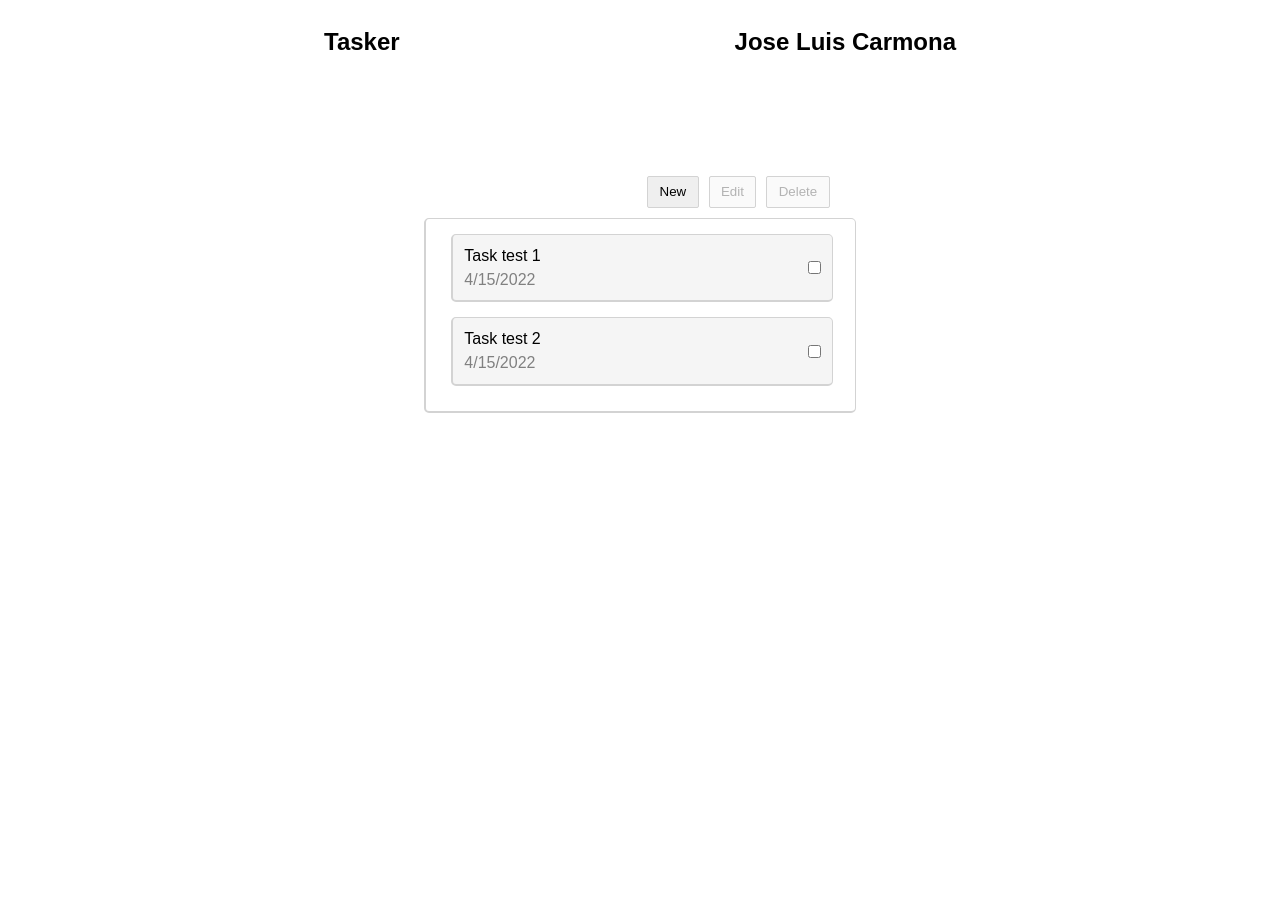
Test case: App component › When button 'New' is clicked a task detail modal window is showed and the field name is empty
Click the button "New".
click(673, 192)  # box [647, 176, 699, 208]
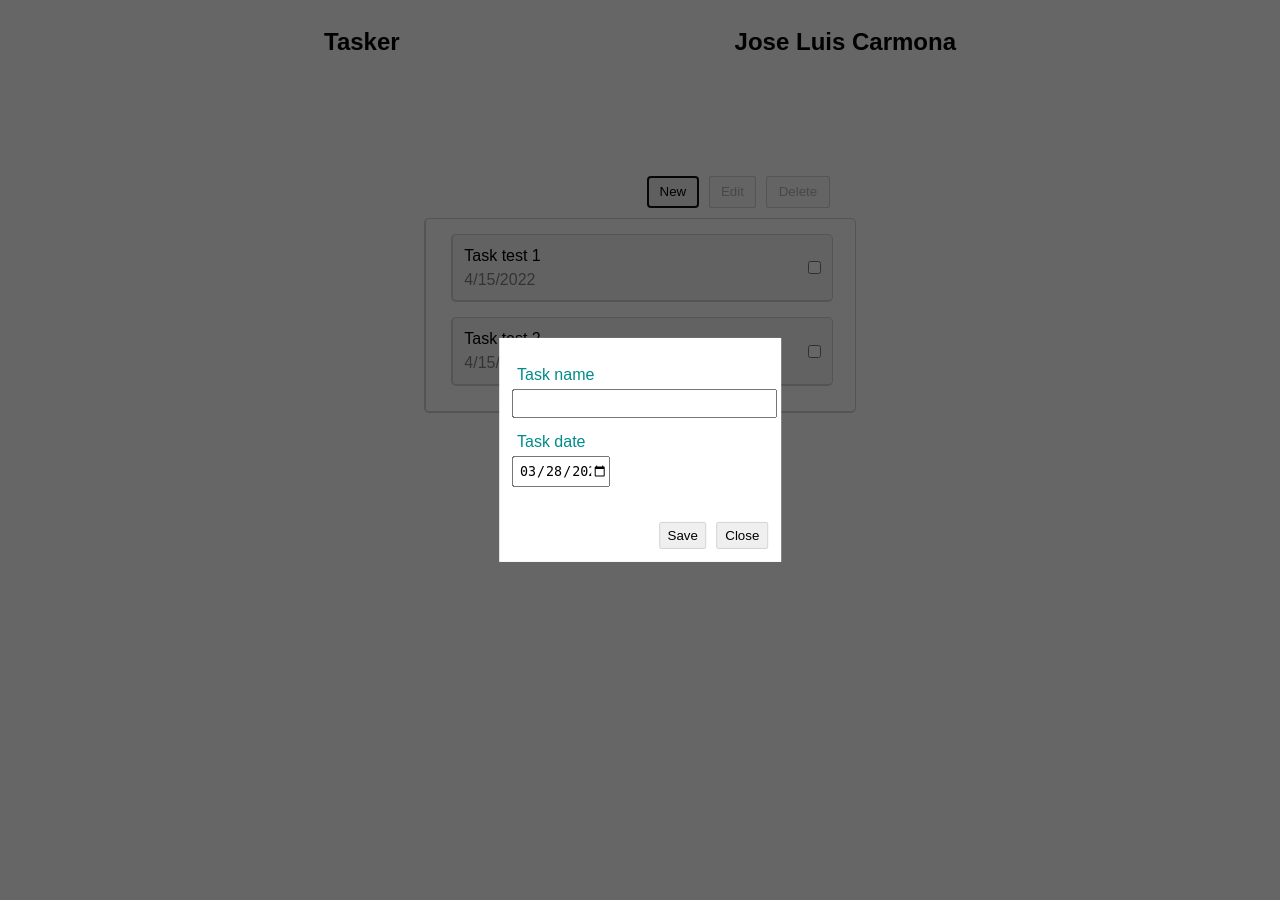
Result: the element titled "taskDetail" is shown
Result: the field is empty at [512, 389, 777, 418]
